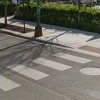crosswalk: (0, 51, 91, 90)
